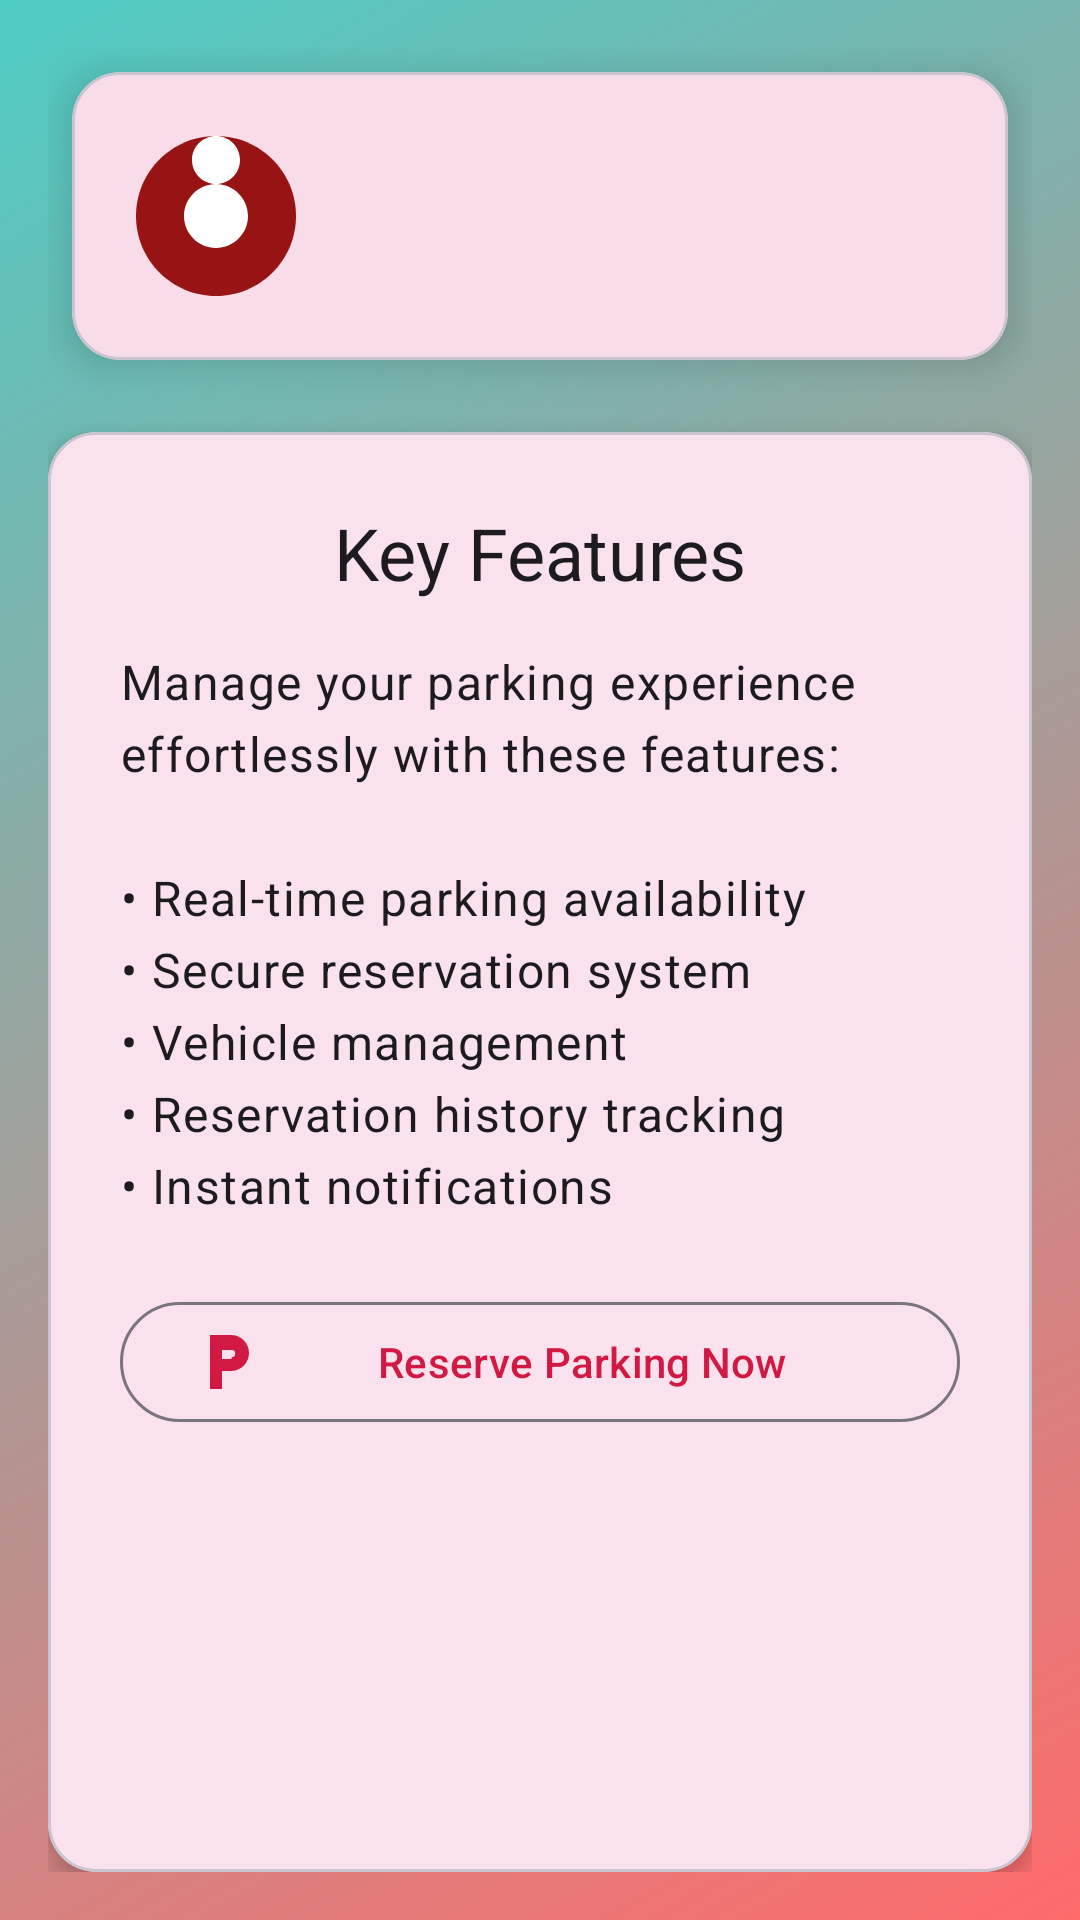

Where to tap for icons on this 1080 x 1920 app screen, as (x,y):
Profile image: (216,216)
